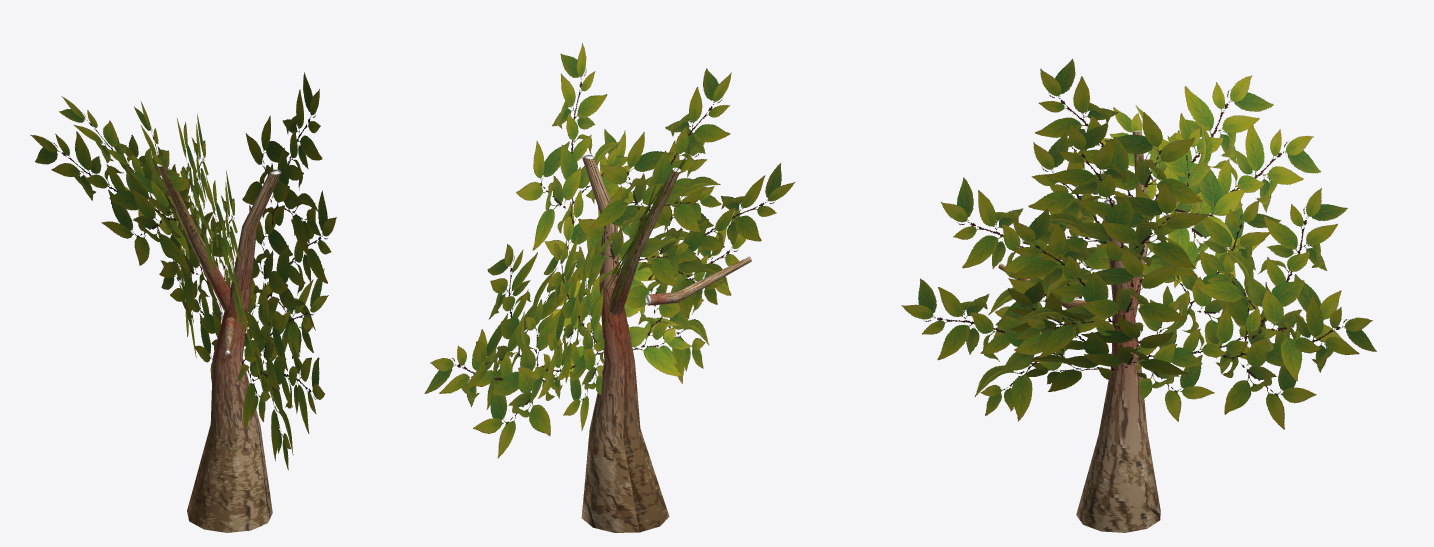
The model's file is Obj04_Tree.fbx.
The picture shows the model from 3 angles, left to right: view 1: azimuth 30°, elevation 25°; view 2: azimuth 150°, elevation 25°; view 3: azimuth 270°, elevation 25°; orthographic projection. The views are drawn at different scales.
Parts seen in each view (by area): view 1: Obj04_Tree; view 2: Obj04_Tree; view 3: Obj04_Tree.
Boxes of the visible parts, x1=… form: Obj04_Tree: x1=30, y1=72, x2=336, y2=532; Obj04_Tree: x1=424, y1=43, x2=795, y2=532; Obj04_Tree: x1=901, y1=59, x2=1376, y2=532.
Size of the model in its own units: 2.05 by 4.55 by 4.83.
